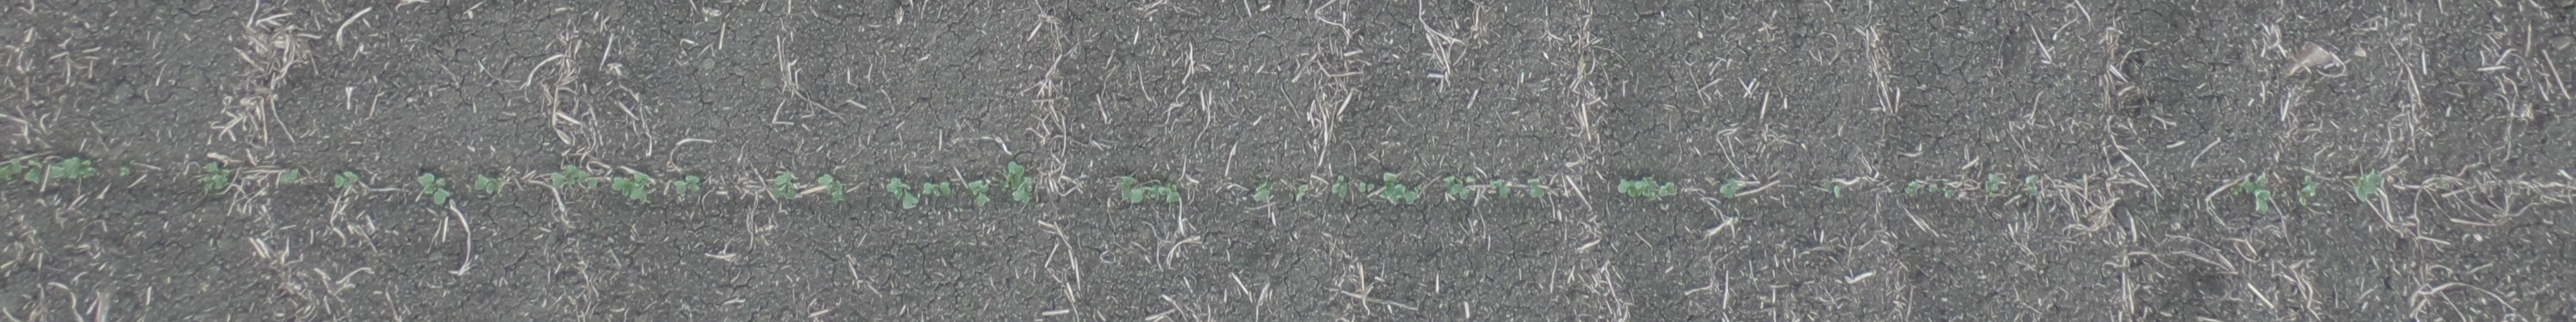clumped: (1004, 161, 1035, 205), (552, 166, 600, 191), (1617, 174, 1658, 200), (818, 174, 844, 202)
isolated: (1382, 174, 1419, 205), (885, 177, 918, 209), (2241, 177, 2270, 212), (417, 174, 450, 204), (51, 158, 94, 179), (2356, 169, 2382, 202), (204, 161, 230, 191), (1444, 174, 1474, 200), (772, 172, 798, 199), (1120, 176, 1143, 204), (1150, 182, 1181, 202), (969, 179, 992, 205), (674, 174, 703, 194), (0, 158, 25, 181), (632, 171, 649, 204), (2300, 176, 2318, 205), (1253, 179, 1275, 204), (920, 181, 951, 197), (1986, 172, 2006, 197), (1490, 177, 1511, 199), (475, 174, 498, 194), (25, 158, 41, 184), (334, 171, 360, 187), (613, 174, 632, 195), (1526, 177, 1546, 199), (1929, 182, 1957, 197), (1332, 174, 1349, 199), (2024, 172, 2040, 197), (279, 166, 301, 184), (1720, 177, 1738, 199), (1296, 182, 1311, 202), (1658, 181, 1676, 195), (1825, 182, 1842, 197), (1904, 182, 1920, 197), (1360, 181, 1375, 192), (118, 166, 131, 177)
